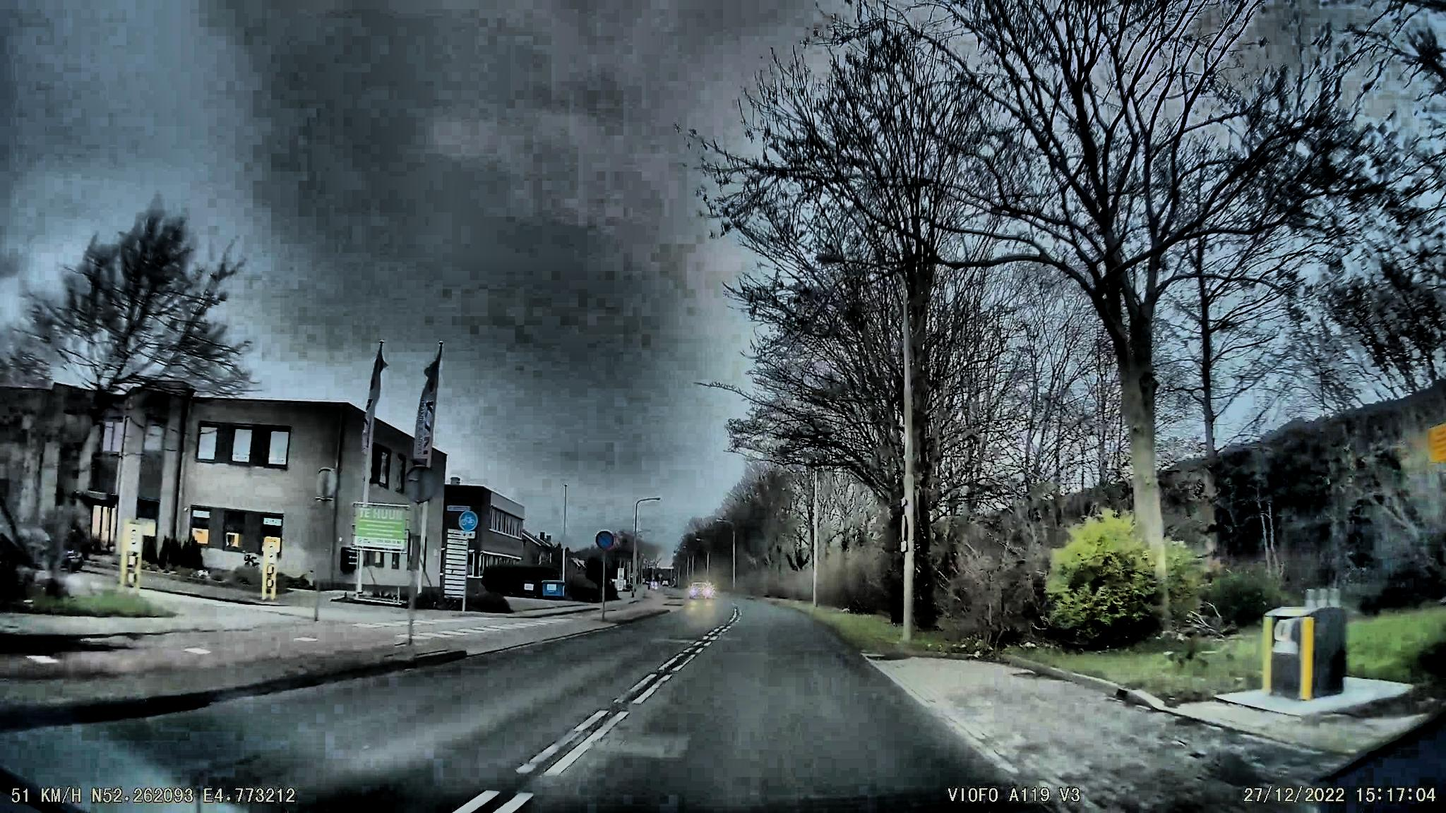Roads: (0, 603, 1333, 813)
